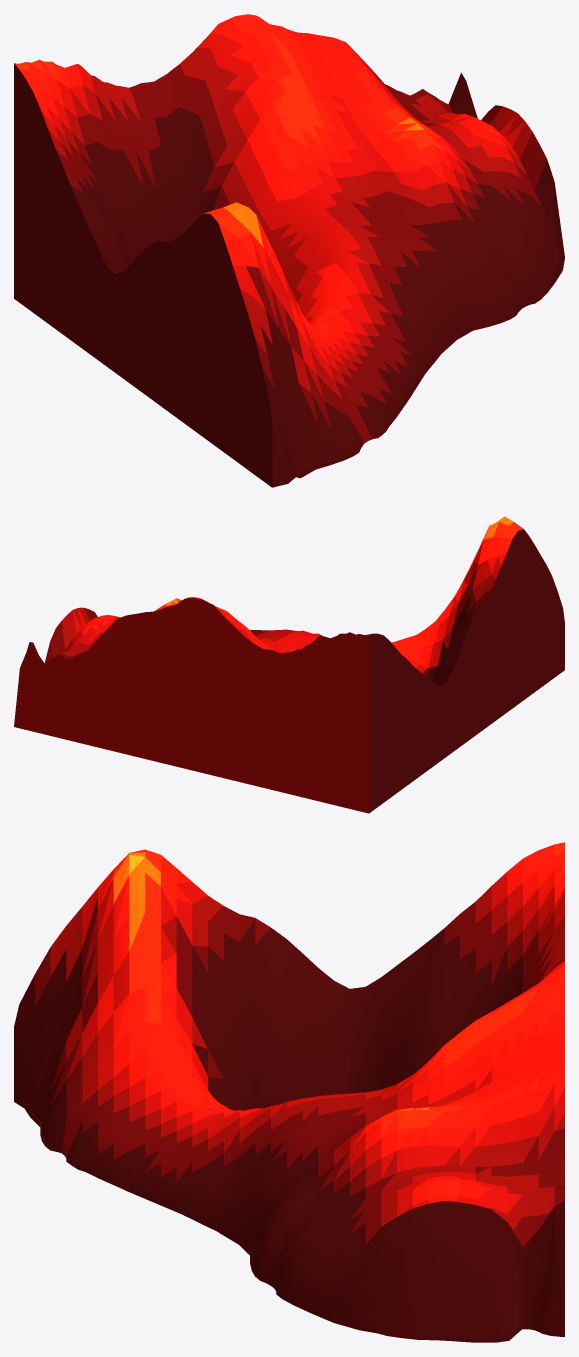
File: core_fire_101.glb
3 renders of one model, top to bottom at view 1: azimuth 30°, elevation 25°; view 2: azimuth 150°, elevation 25°; view 3: azimuth 270°, elevation 25°, orthographic. The views are drawn at different scales.
Parts seen in each view (by area): view 1: core_fire_101_fire; view 2: core_fire_101_fire; view 3: core_fire_101_fire.
Boxes of the visible parts, bbox=[...] form: core_fire_101_fire: bbox=[14, 14, 564, 487]; core_fire_101_fire: bbox=[14, 516, 564, 813]; core_fire_101_fire: bbox=[14, 842, 564, 1342].
Bounding box in the file's own units: 22 × 10.91 × 21.
